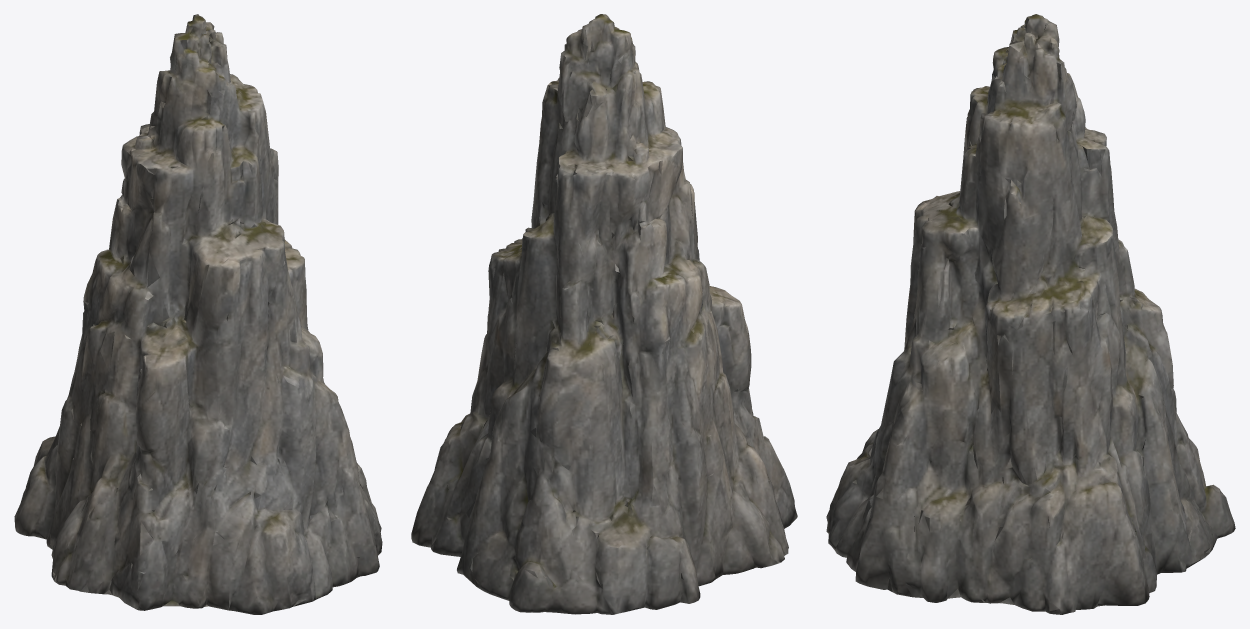
The model's file is limestone_buttress.glb.
3 views of the same model, side by side, from view 1: azimuth 30°, elevation 25°; view 2: azimuth 150°, elevation 25°; view 3: azimuth 270°, elevation 25° (orthographic).
Parts seen in each view (by area): view 1: CloudreachLimestoneButtress; view 2: CloudreachLimestoneButtress; view 3: CloudreachLimestoneButtress.
Boxes of the visible parts, x1,y1,x2,y2 form: CloudreachLimestoneButtress: (14, 14, 382, 614); CloudreachLimestoneButtress: (411, 14, 797, 614); CloudreachLimestoneButtress: (826, 14, 1235, 614).
Size of the model in its own units: 0.6469 by 1 by 0.7104.
Materials: 1 (1 with a texture image).
